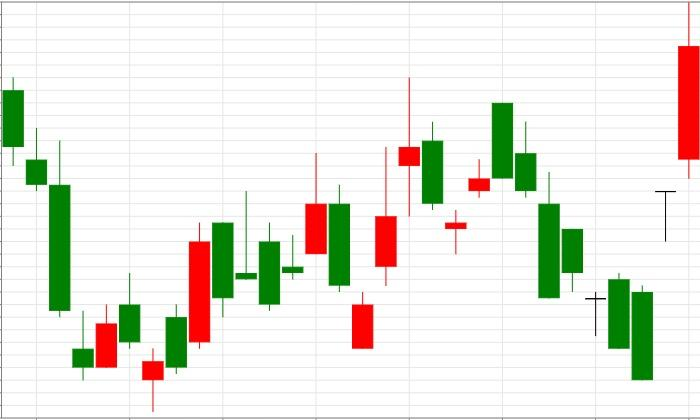inverse_hammer_rise: (3, 77, 94, 381)
